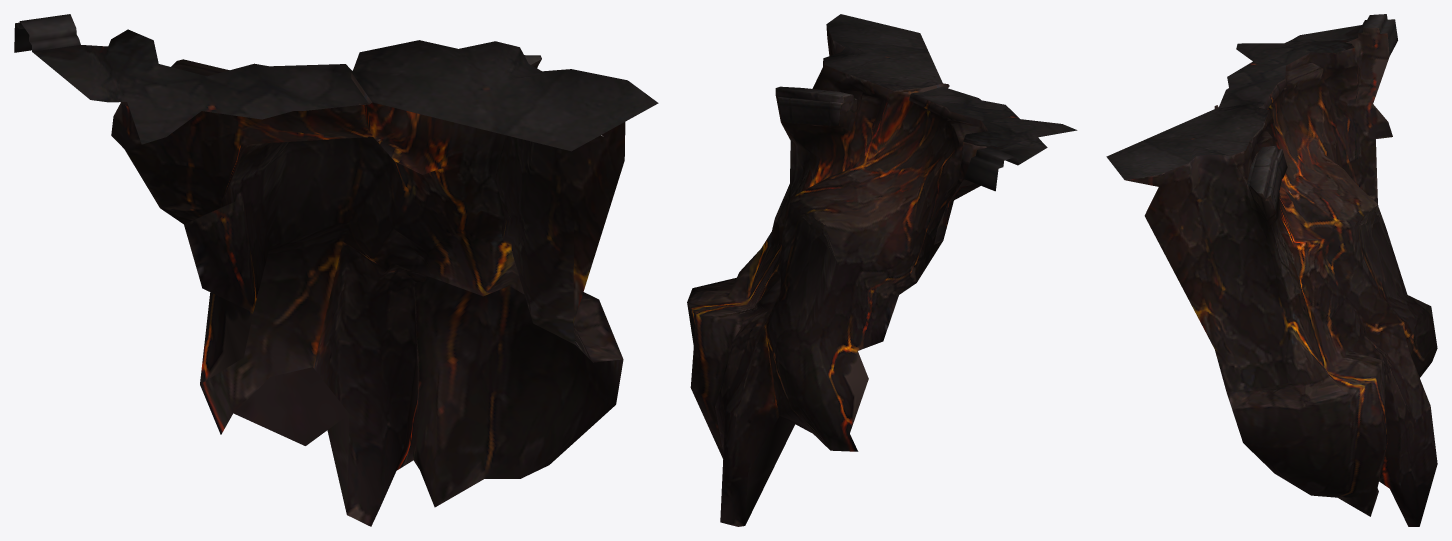
The model's file is S2_Build_XSC106_L9.FBX.
The picture shows the model from 3 angles, left to right: view 1: azimuth 30°, elevation 25°; view 2: azimuth 150°, elevation 25°; view 3: azimuth 270°, elevation 25°; orthographic projection. The views are drawn at different scales.
Visible parts, largest first — view 1: S2_Build_XSC106_L9; view 2: S2_Build_XSC106_L9; view 3: S2_Build_XSC106_L9.
Part boxes in pixels (x1,y1,x2,y2): S2_Build_XSC106_L9: (14, 14, 658, 526); S2_Build_XSC106_L9: (687, 14, 1077, 526); S2_Build_XSC106_L9: (1106, 14, 1437, 526).
Bounding box in the file's own units: 4034 × 4513 × 3420.
